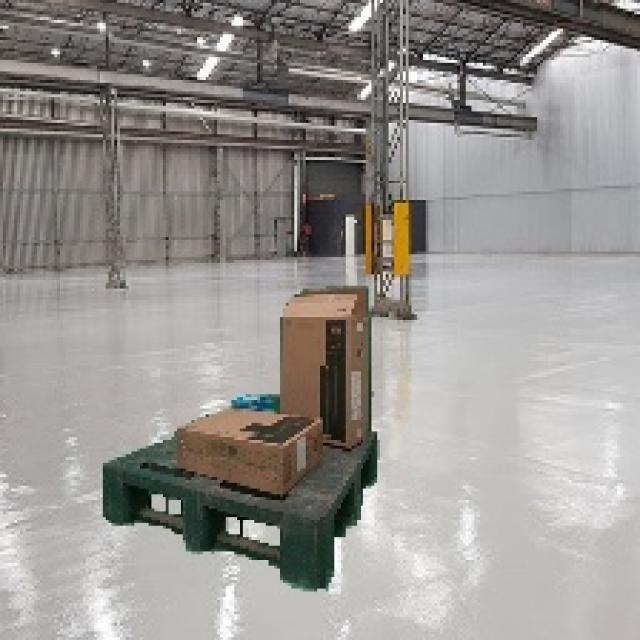block: (279, 517, 331, 592), (96, 466, 140, 532), (179, 489, 218, 558)
front: (96, 460, 329, 594)
